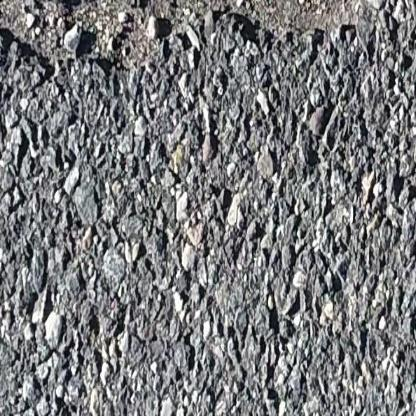Cracks: (0, 0, 385, 99)
